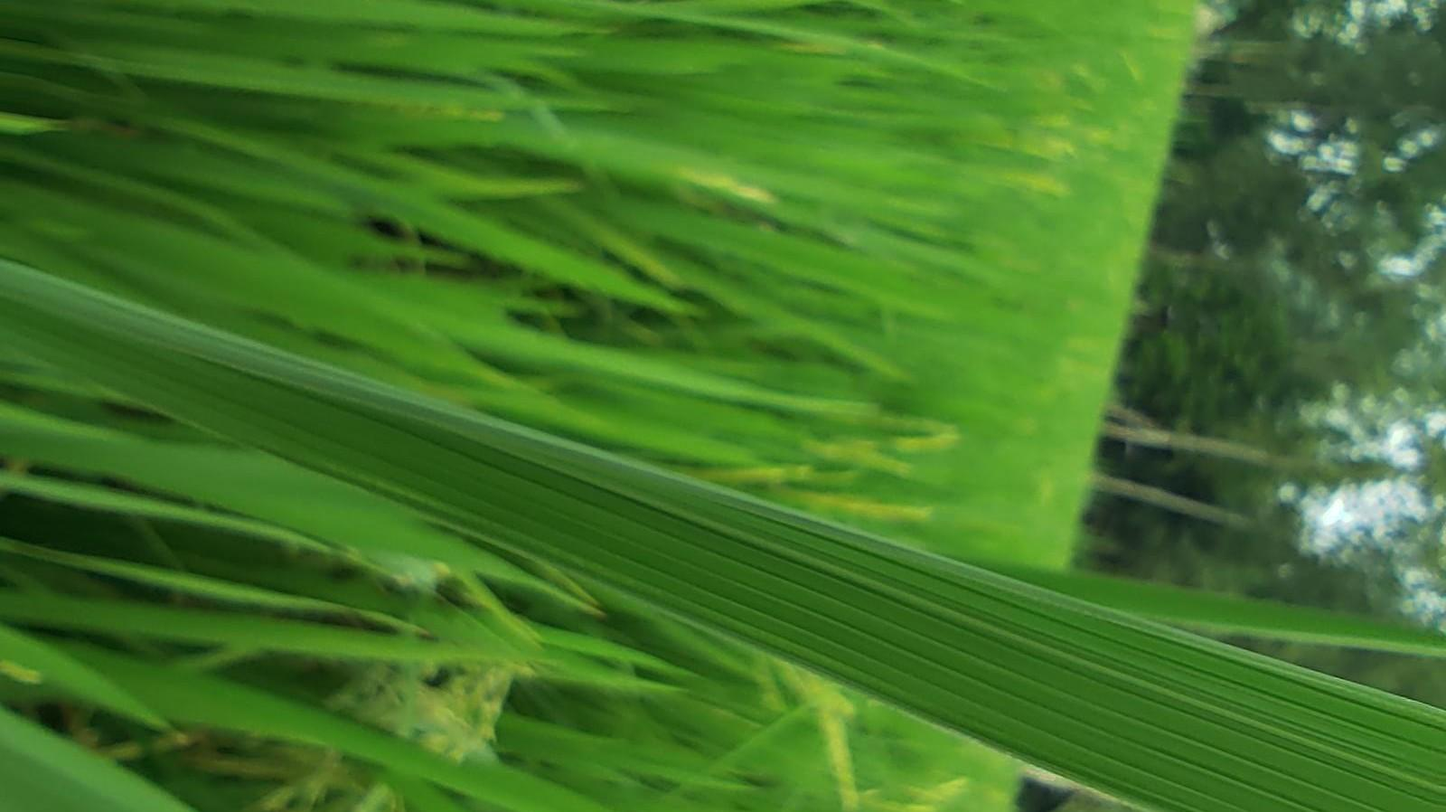Healthy: (0, 262, 1445, 811)
